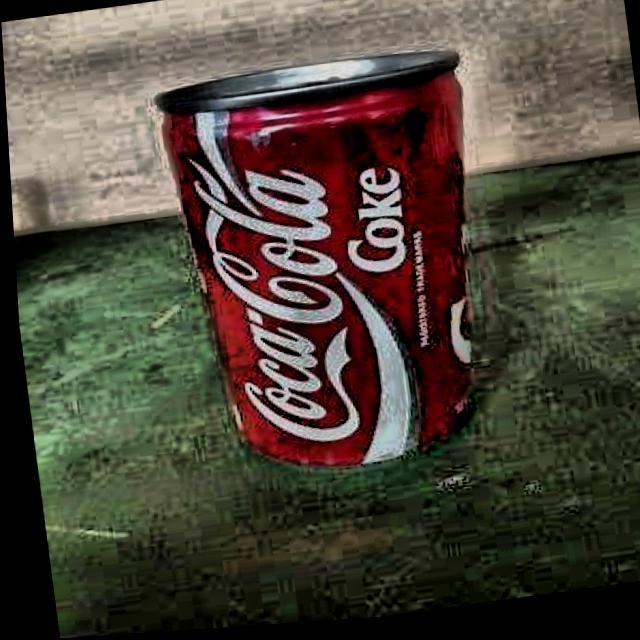Cans: (144, 29, 518, 520)
